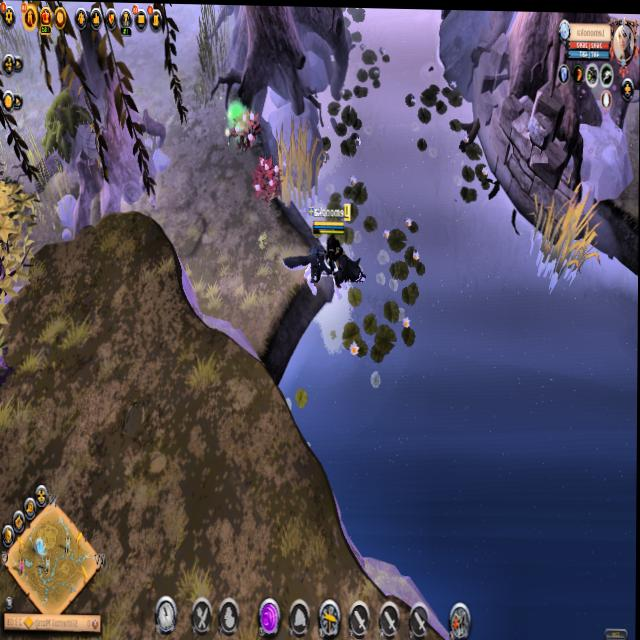fiber tier 5: (250, 151, 284, 205), (229, 105, 263, 156)
